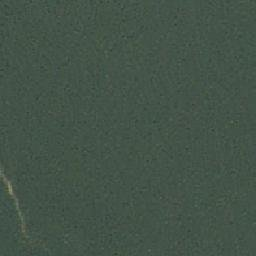debris: (1, 175, 26, 237)
